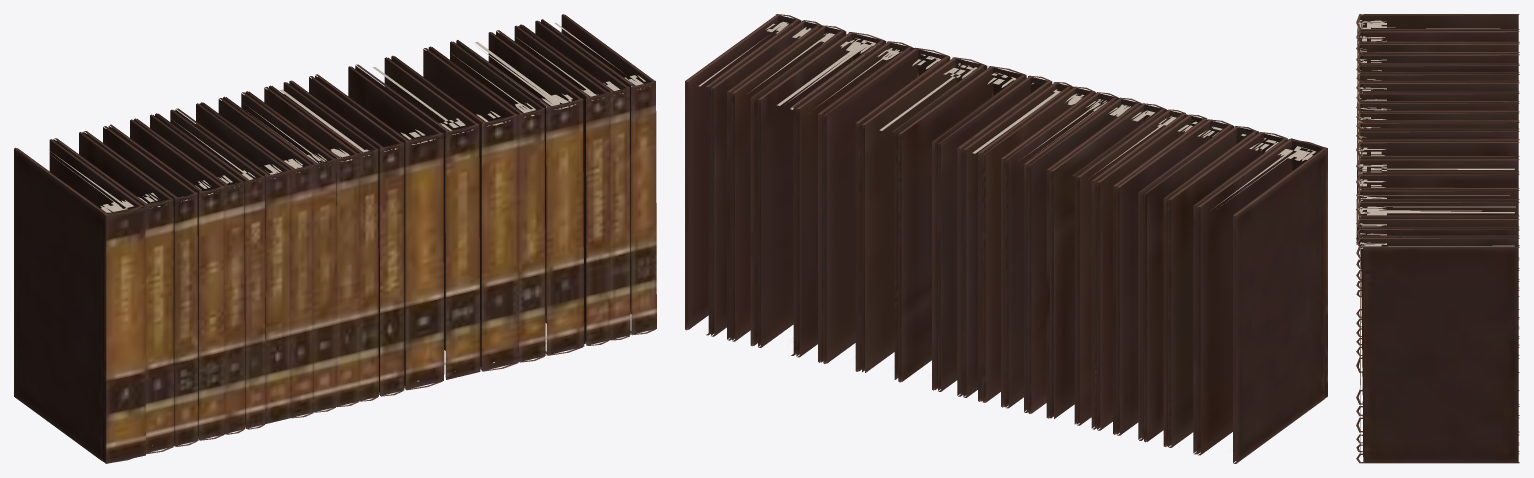
File: books.glb
3 renders of one model, left to right at view 1: azimuth 30°, elevation 25°; view 2: azimuth 150°, elevation 25°; view 3: azimuth 270°, elevation 25°, orthographic. The views are drawn at different scales.
Parts seen in each view (by area): view 1: book_encyclopedia_set_01_book01; view 2: book_encyclopedia_set_01_book01; view 3: book_encyclopedia_set_01_book01.
Part boxes in pixels (<box>): book_encyclopedia_set_01_book01: <box>14,14,656,463</box>; book_encyclopedia_set_01_book01: <box>685,14,1327,463</box>; book_encyclopedia_set_01_book01: <box>1356,14,1519,463</box>.
Size of the model in its own units: 0.5525 by 0.2374 by 0.1634.
2 materials, 2 textured.
